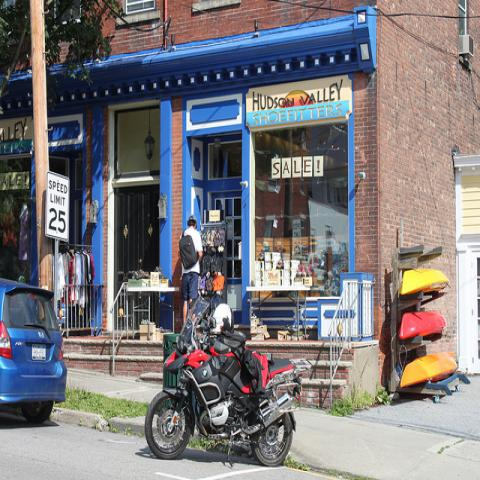car: (0, 277, 68, 421)
motorcycle: (142, 296, 302, 467)
